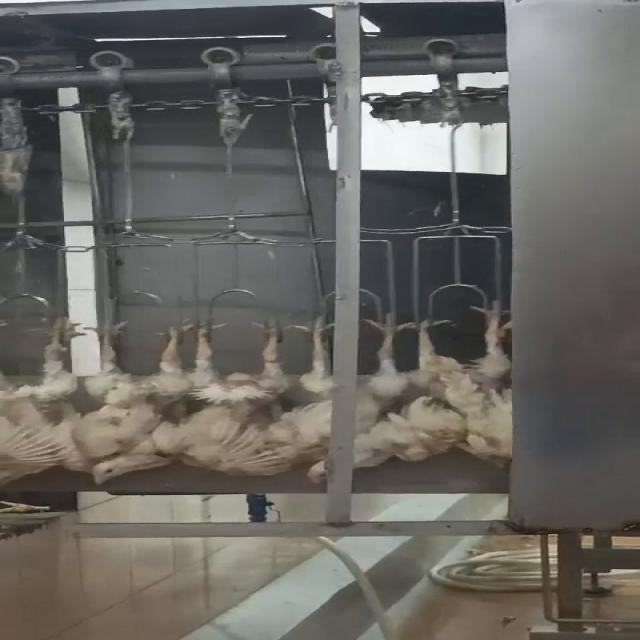chicken: (292, 298, 414, 486), (402, 296, 525, 470), (81, 315, 202, 487), (185, 310, 293, 477), (0, 314, 85, 493)
